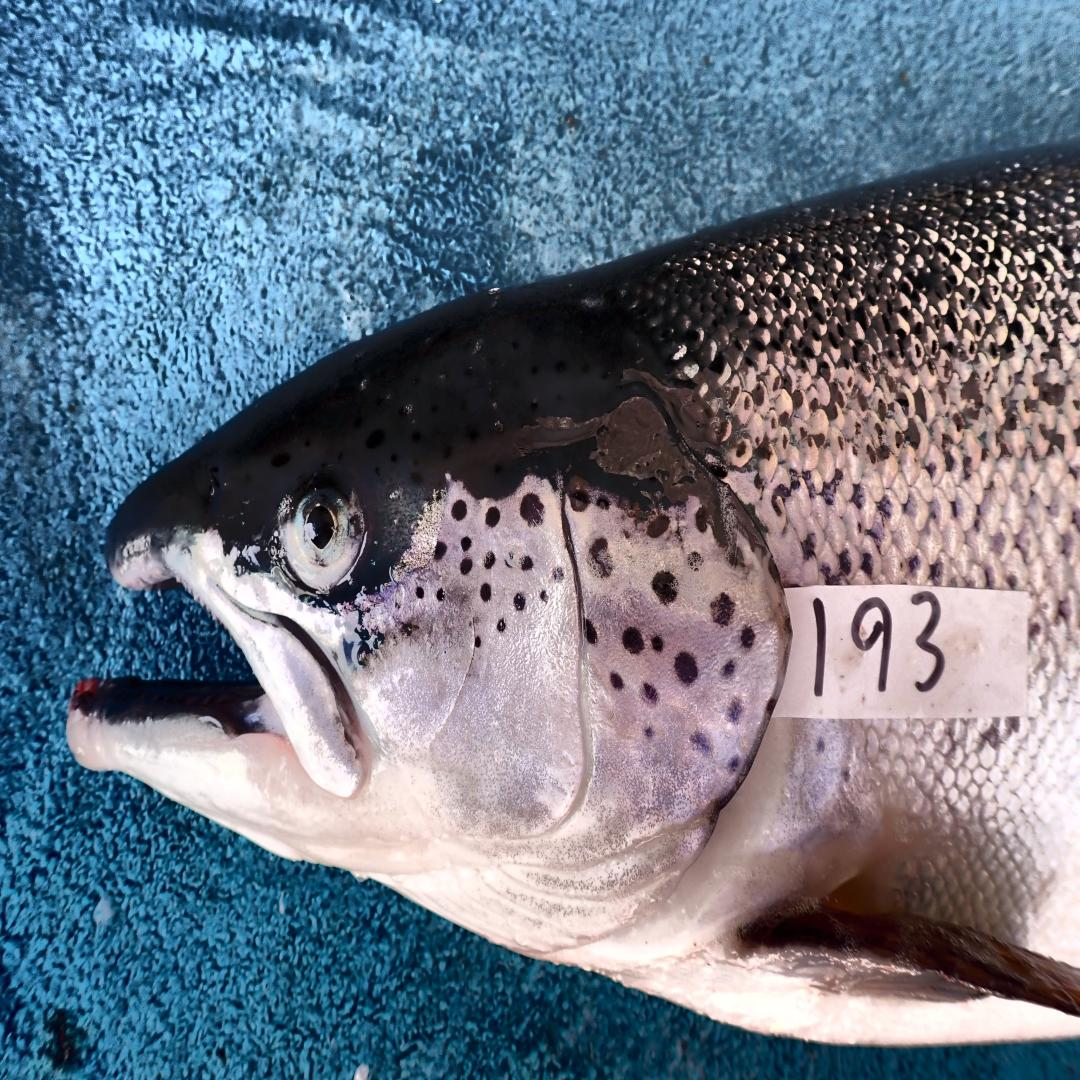spot: (589, 537, 614, 577), (652, 571, 679, 605), (521, 492, 544, 526), (711, 593, 734, 627), (675, 652, 698, 683), (689, 732, 713, 757), (645, 515, 669, 537), (622, 627, 643, 652), (570, 489, 591, 512), (643, 682, 658, 707), (728, 698, 742, 723), (740, 628, 755, 651), (686, 553, 702, 572), (485, 506, 500, 526), (451, 501, 466, 520), (586, 619, 597, 644), (595, 493, 610, 511), (696, 508, 707, 532), (651, 636, 666, 653), (727, 756, 740, 775), (610, 672, 624, 689), (483, 551, 496, 568), (435, 543, 447, 560), (513, 593, 525, 610), (724, 661, 736, 678), (481, 582, 491, 602), (550, 568, 563, 583), (521, 557, 534, 571), (460, 560, 472, 574), (402, 623, 413, 638), (504, 553, 514, 569), (644, 728, 657, 738), (472, 636, 482, 649), (436, 588, 445, 602), (540, 590, 549, 604), (462, 537, 470, 551), (498, 619, 506, 633), (416, 585, 424, 599)
